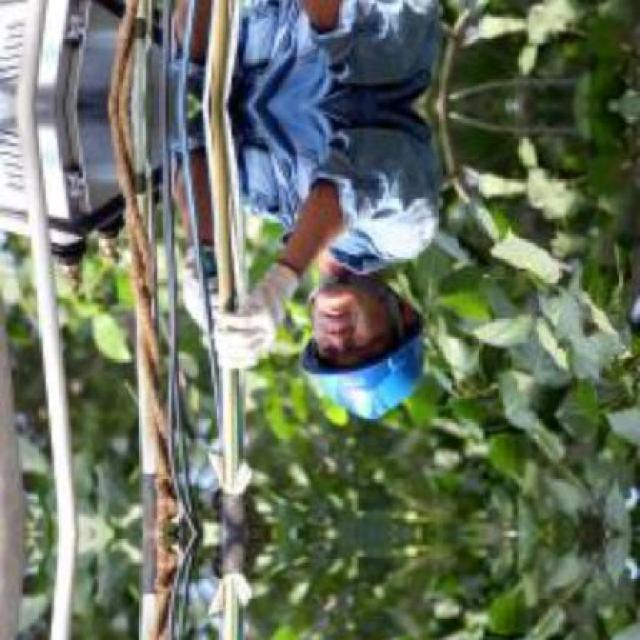safetyhelmet: (292, 299, 429, 418)
